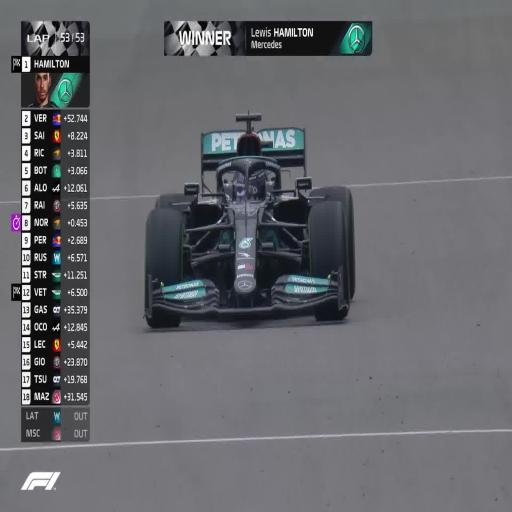f1_car: (144, 112, 355, 326)
